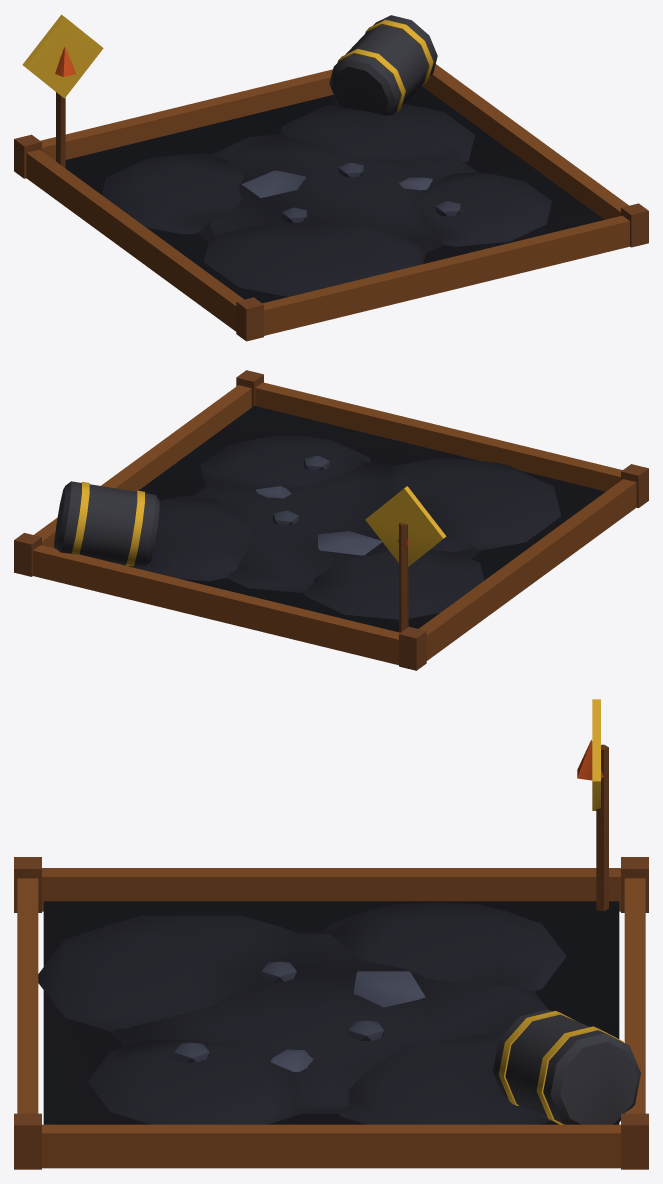
Rendered from b_teer.glb.
3 renders of one model, top to bottom at view 1: azimuth 30°, elevation 25°; view 2: azimuth 150°, elevation 25°; view 3: azimuth 270°, elevation 25°, orthographic. The views are drawn at different scales.
Visible parts, largest first — view 1: body; view 2: body; view 3: body.
Boxes of the visible parts, x1,y1,x2,y2 form: body: (14, 14, 648, 341); body: (14, 370, 648, 670); body: (14, 699, 648, 1169).
Size of the model in its own units: 3.72 by 1.4 by 3.64.
